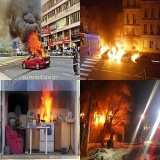fire: (38, 90, 55, 124), (99, 41, 125, 61), (28, 31, 46, 56), (93, 110, 106, 127), (131, 53, 139, 62), (103, 133, 109, 141), (80, 111, 85, 120), (107, 110, 113, 116), (112, 134, 115, 140)
